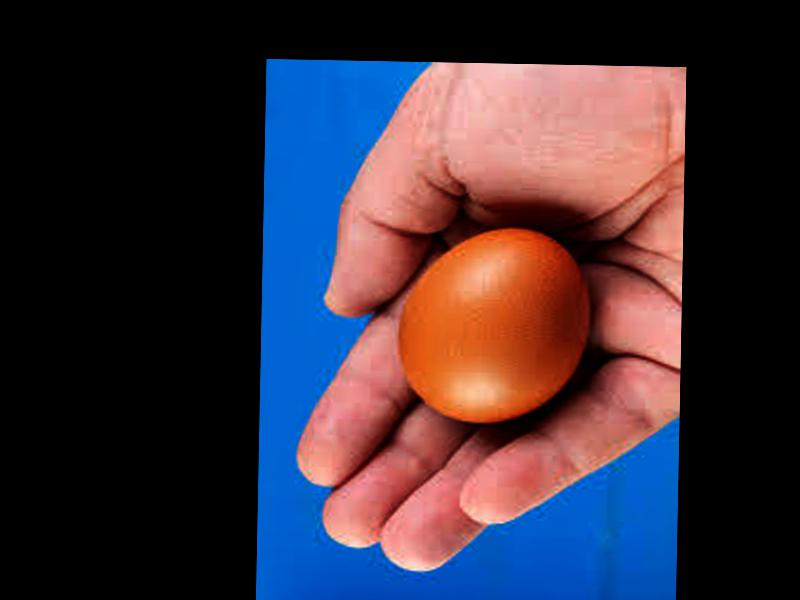Eggs: (397, 226, 587, 428)
